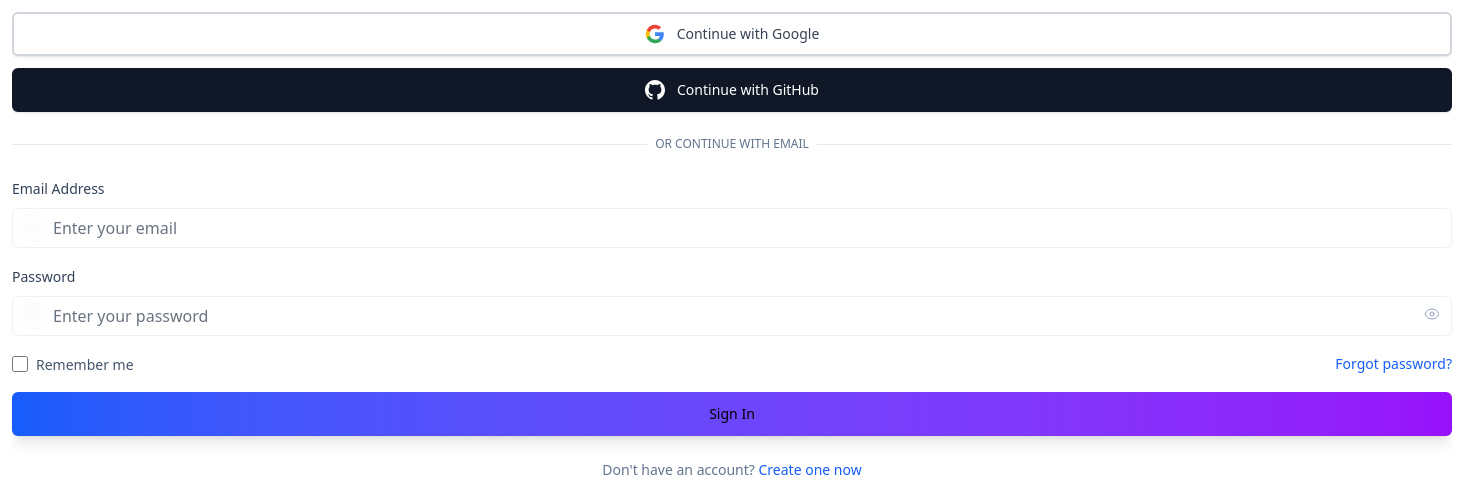
LoginForm › Form Submission › shows loading state during submission
The image size is (1464, 492).
Type "test@example.com" into the field labelled "Email Address".
click(732, 228); type("test@example.com")  # box x1=12 y1=208 x2=1452 y2=248
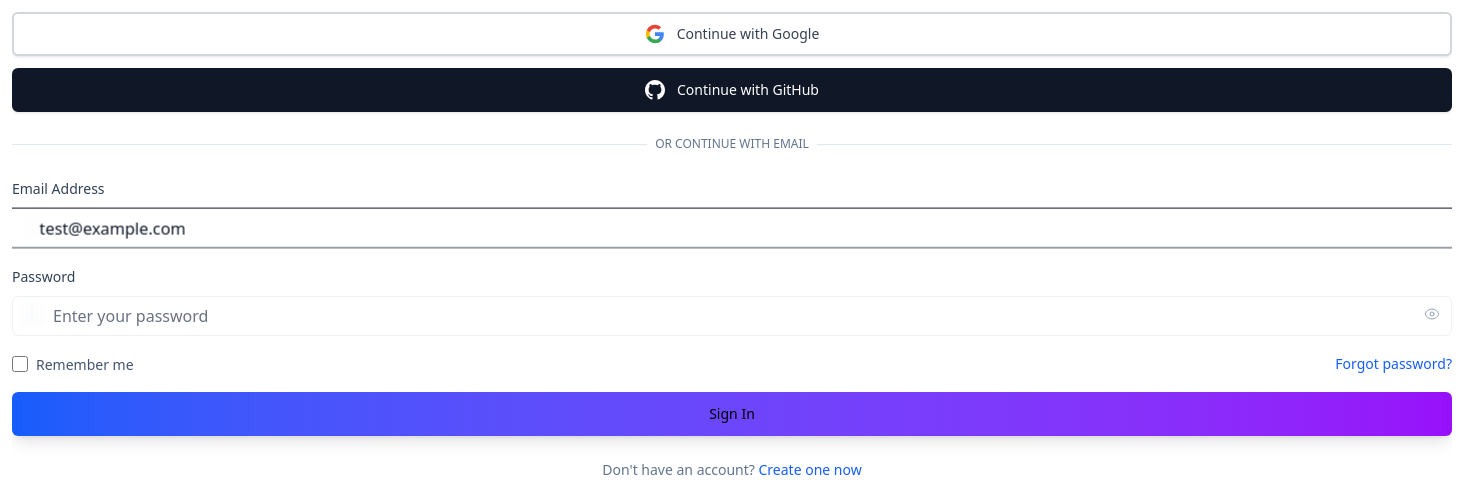
Type "password123" into the password field labelled "Password".
click(732, 316); type("password123")  # box x1=12 y1=296 x2=1452 y2=336
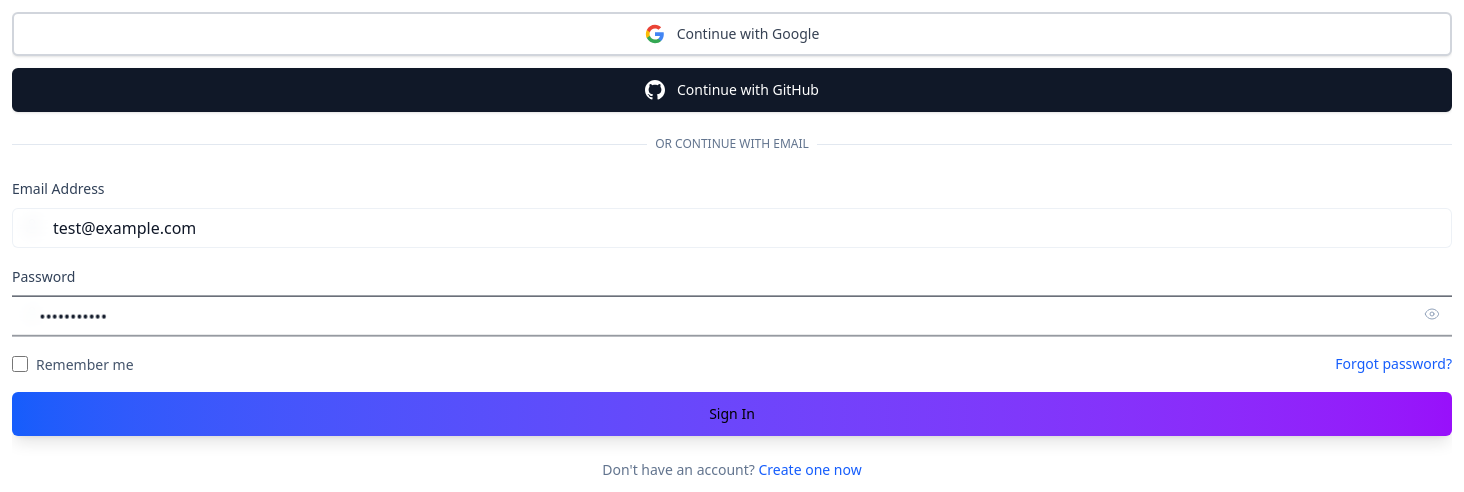
Click the button "Sign In".
click(732, 414)  # box x1=12 y1=392 x2=1452 y2=436
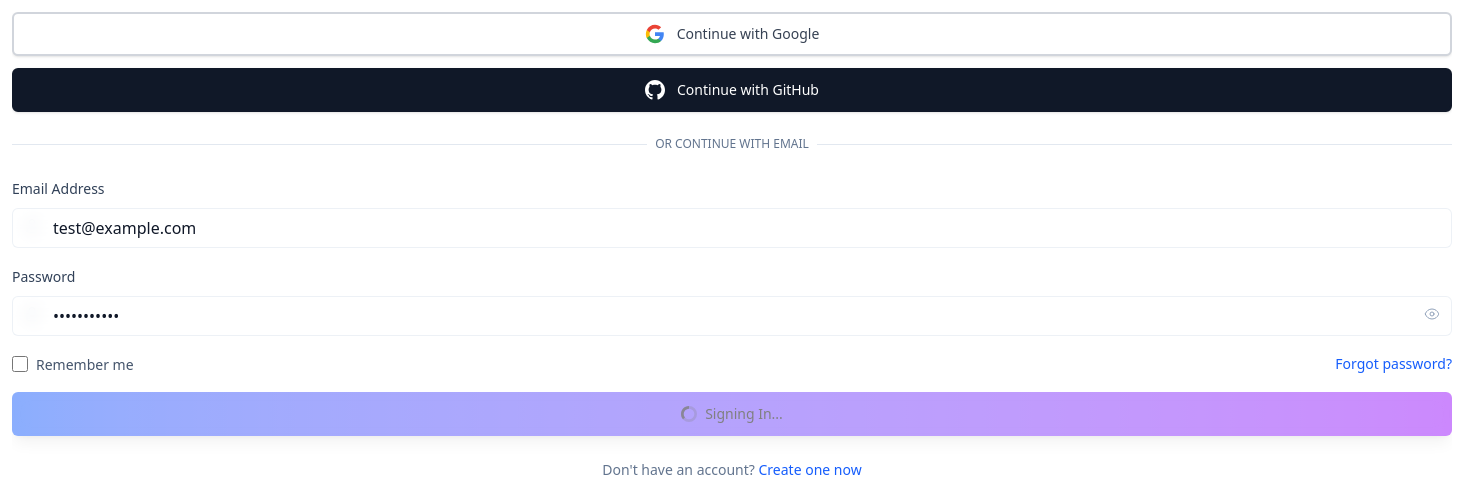
Expected: the button "Signing In..." is shown, x1=12 y1=392 x2=1452 y2=436
